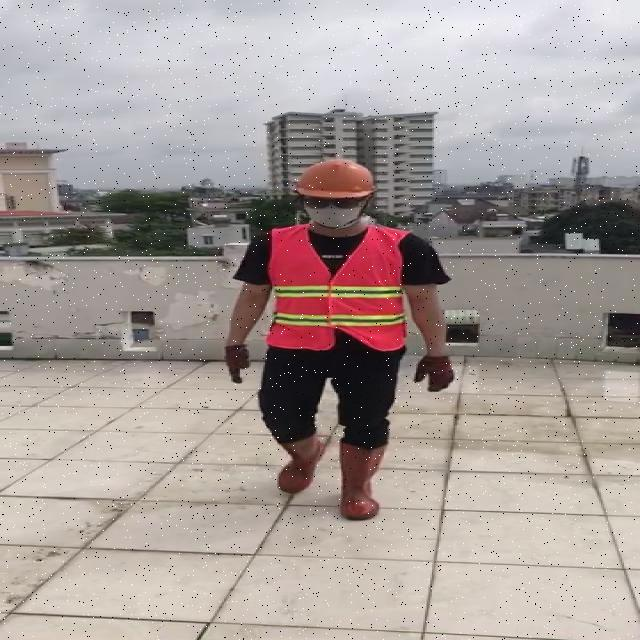Hard_hat: (291, 157, 381, 209)
Vest: (267, 223, 410, 354)
